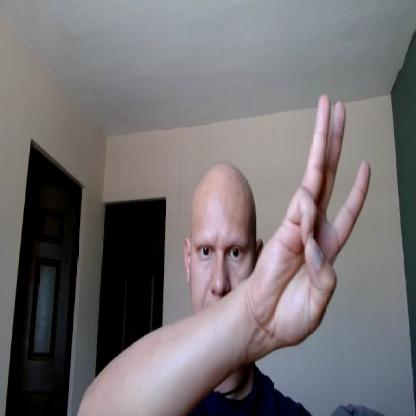W: (253, 92, 374, 350)
